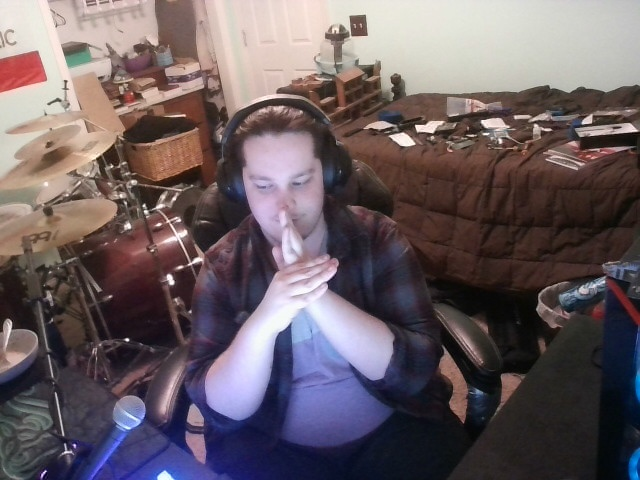quiet: (229, 196, 361, 336)
